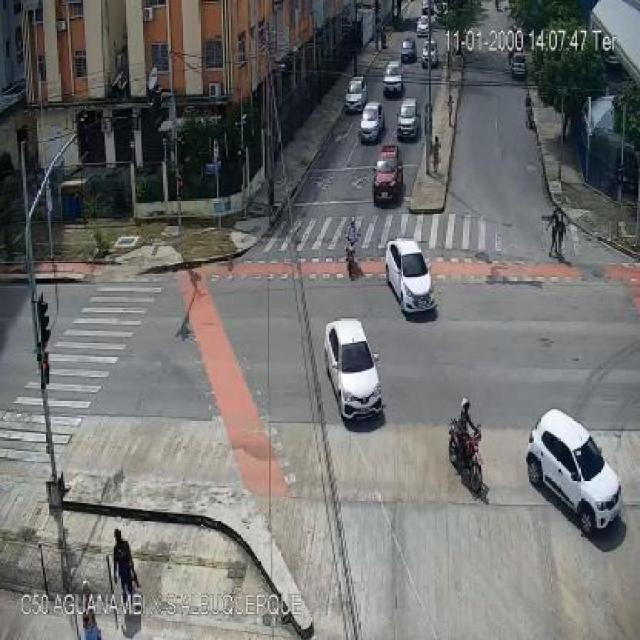Car: (526, 409, 626, 531), (322, 315, 388, 427), (382, 238, 444, 326), (371, 144, 405, 204), (396, 97, 421, 140), (358, 100, 384, 140), (345, 75, 368, 112), (382, 60, 405, 96), (421, 39, 438, 67), (399, 35, 416, 62), (414, 15, 431, 38)
Cycle: (447, 395, 488, 492), (344, 216, 363, 273)
